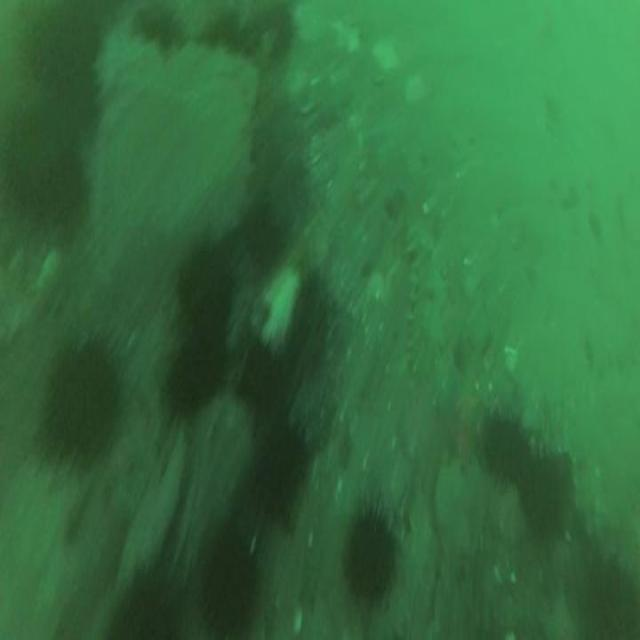echinus: (40, 349, 114, 465), (202, 542, 257, 640), (2, 116, 50, 222), (179, 245, 237, 330), (171, 327, 224, 417), (253, 422, 303, 510), (344, 513, 395, 599), (118, 577, 182, 640), (523, 450, 565, 536), (483, 414, 529, 491), (48, 144, 84, 235), (242, 202, 282, 277), (239, 342, 279, 409)
holothurian: (406, 216, 446, 381)
scallop: (292, 605, 304, 635)
starfish: (433, 378, 485, 453)
